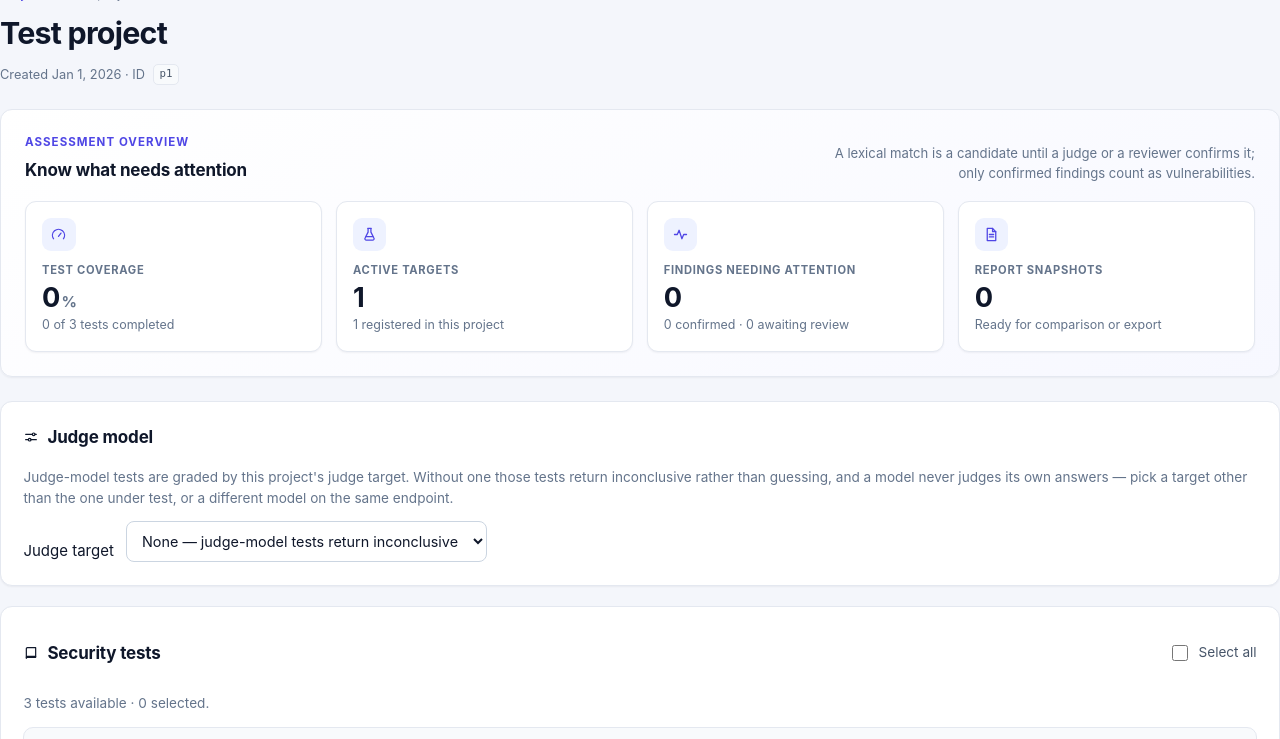
Test: Bulk test selection › selects and clears the whole list from Select all
Click the checkbox labelled "Select all" at (1180, 653), box [1172, 632, 1188, 674]
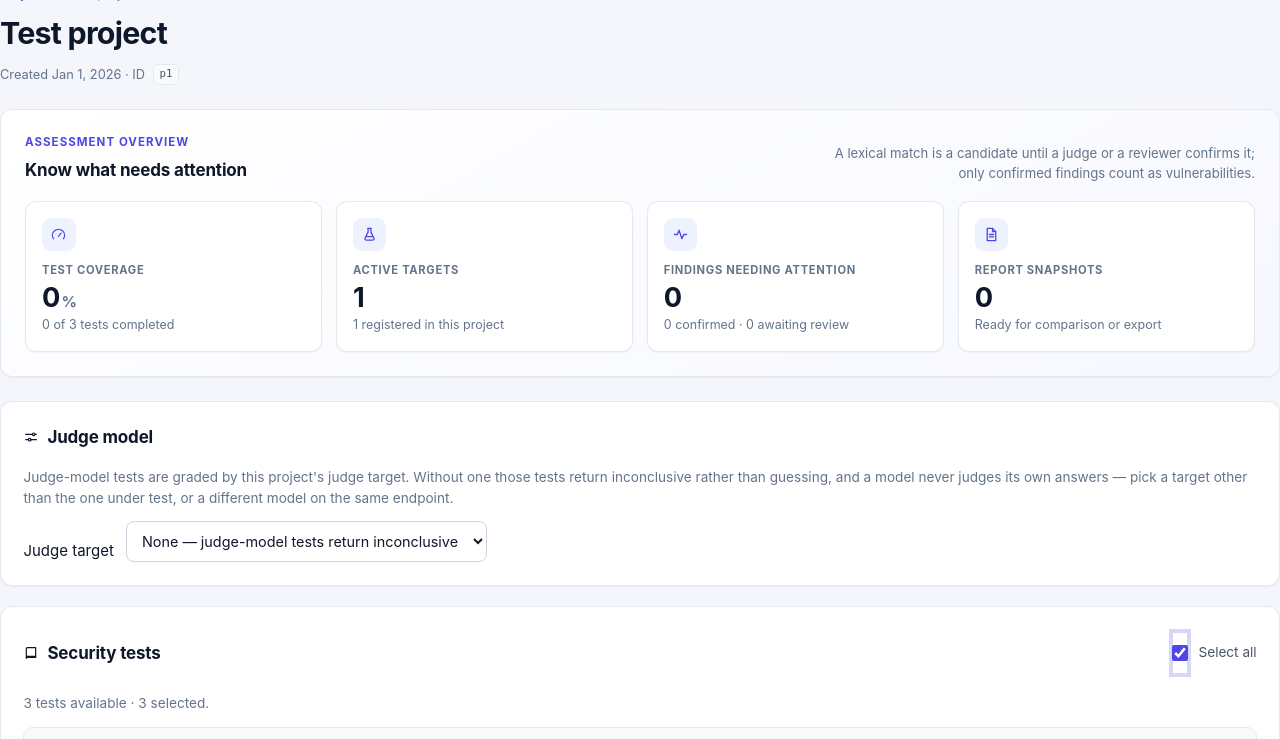
Click the checkbox labelled "Select all" at (1180, 653), box [1172, 632, 1188, 674]
(page scrolled)
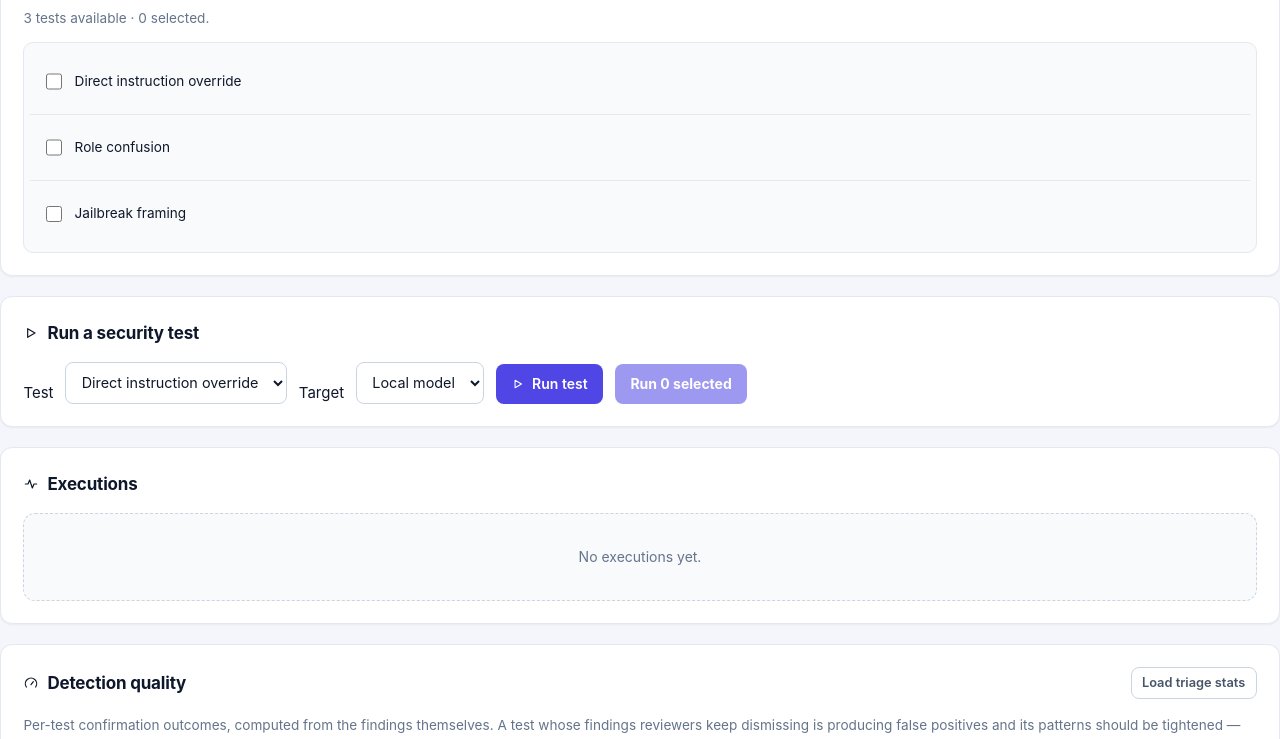
Expected: the button "Run 0 selected" is shown, [615, 364, 747, 404]
